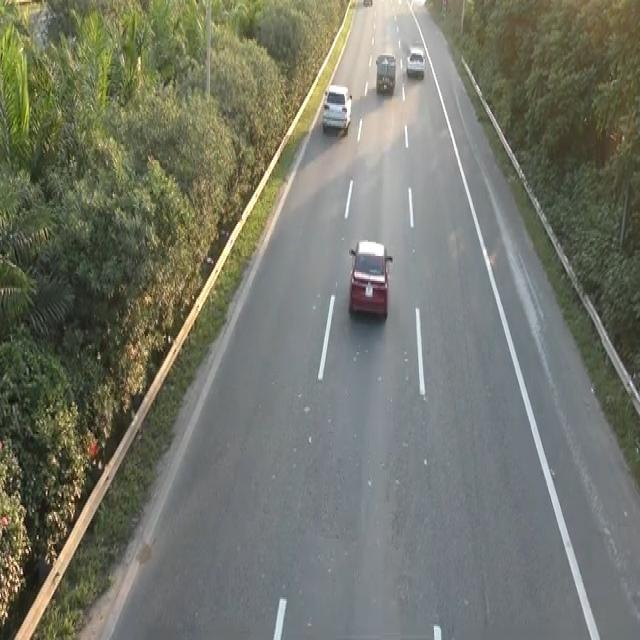bus: (345, 235, 395, 327), (321, 82, 352, 133), (405, 44, 425, 78)
minivan: (374, 52, 396, 94)
